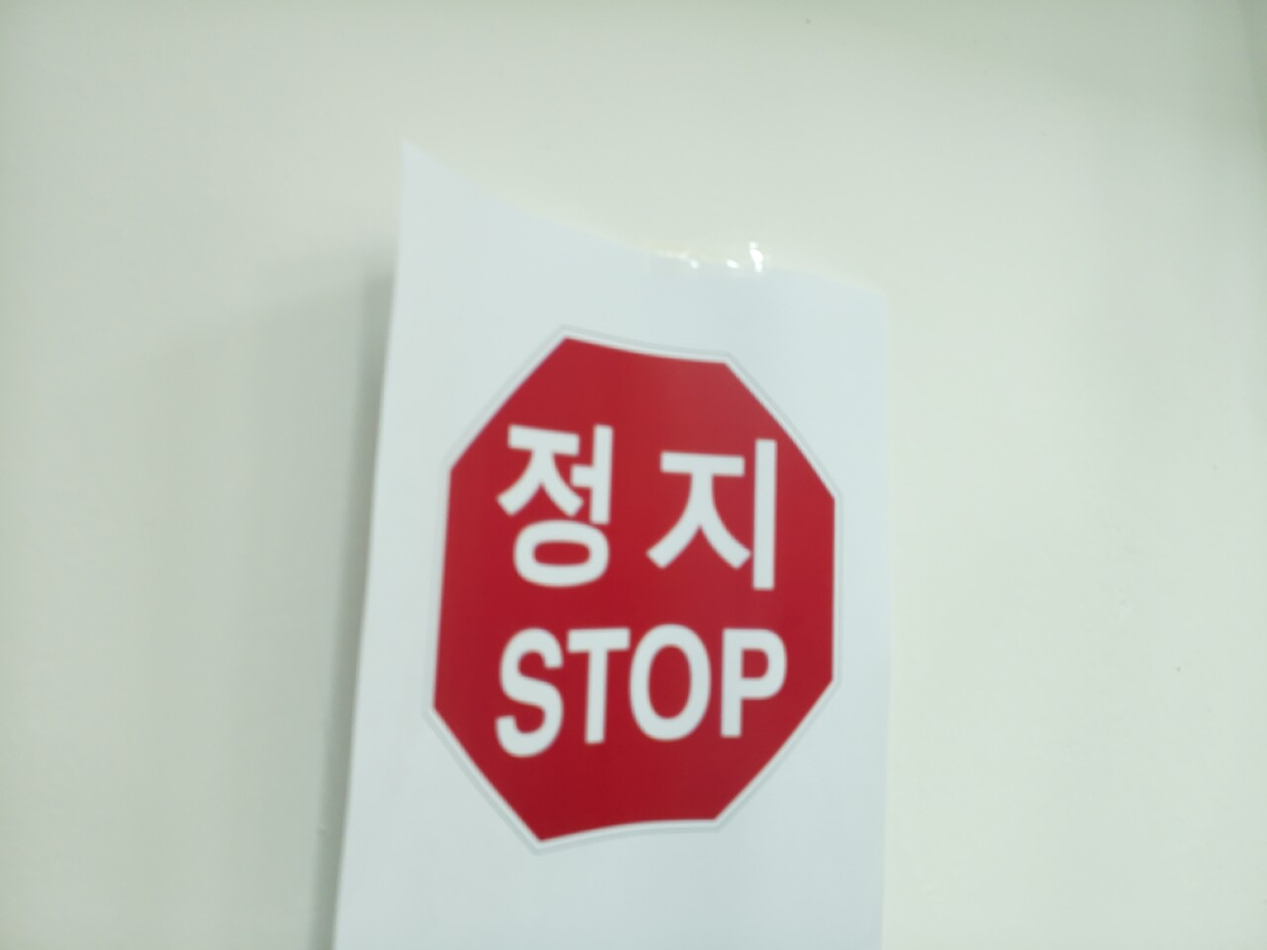stop: (422, 325, 847, 855)
